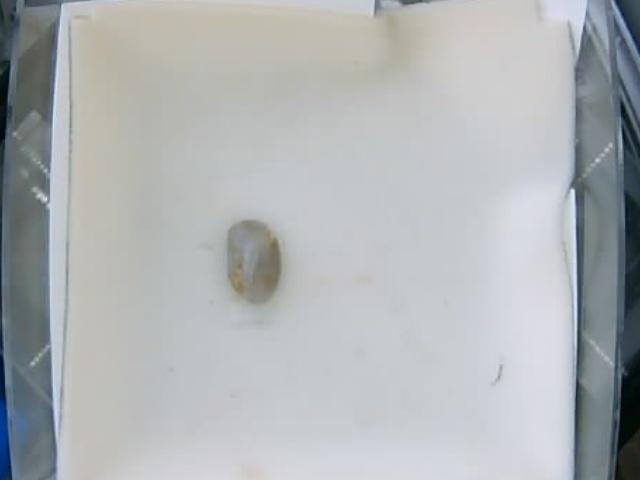Pebble: (226, 221, 280, 305)
